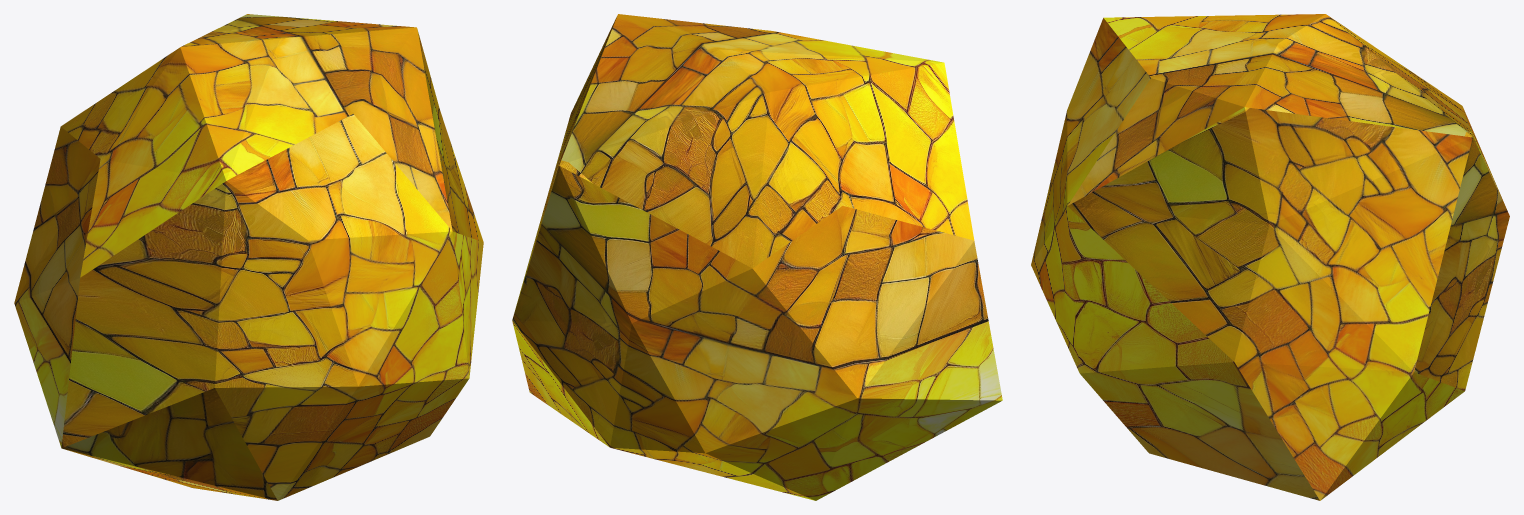
File: star3Yellow.glb
3 renders of one model, left to right at view 1: azimuth 30°, elevation 25°; view 2: azimuth 150°, elevation 25°; view 3: azimuth 270°, elevation 25°, orthographic.
Visible parts, largest first — view 1: star3; view 2: star3; view 3: star3.
Boxes of the visible parts, x1,y1,x2,y2 form: star3: (14,14,483,500); star3: (512,14,1002,500); star3: (1031,14,1509,500).
Size of the model in its own units: 1.07 by 1 by 1.02.
Materials: 1 (1 with a texture image).
